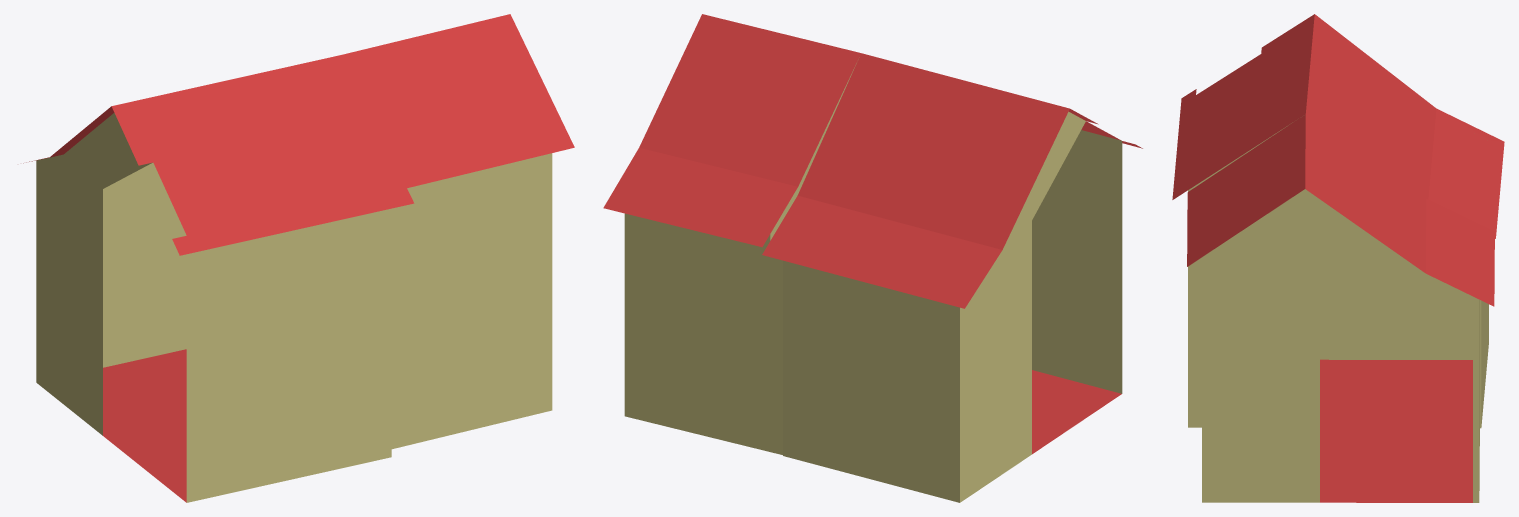
3 views of the same model, side by side, from view 1: azimuth 30°, elevation 25°; view 2: azimuth 150°, elevation 25°; view 3: azimuth 270°, elevation 25° (orthographic). The views are drawn at different scales.
Bounding box in the file's own units: 20.92 × 16.56 × 17.61.
